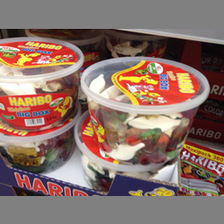candy: (79, 54, 211, 157), (1, 37, 78, 125)
